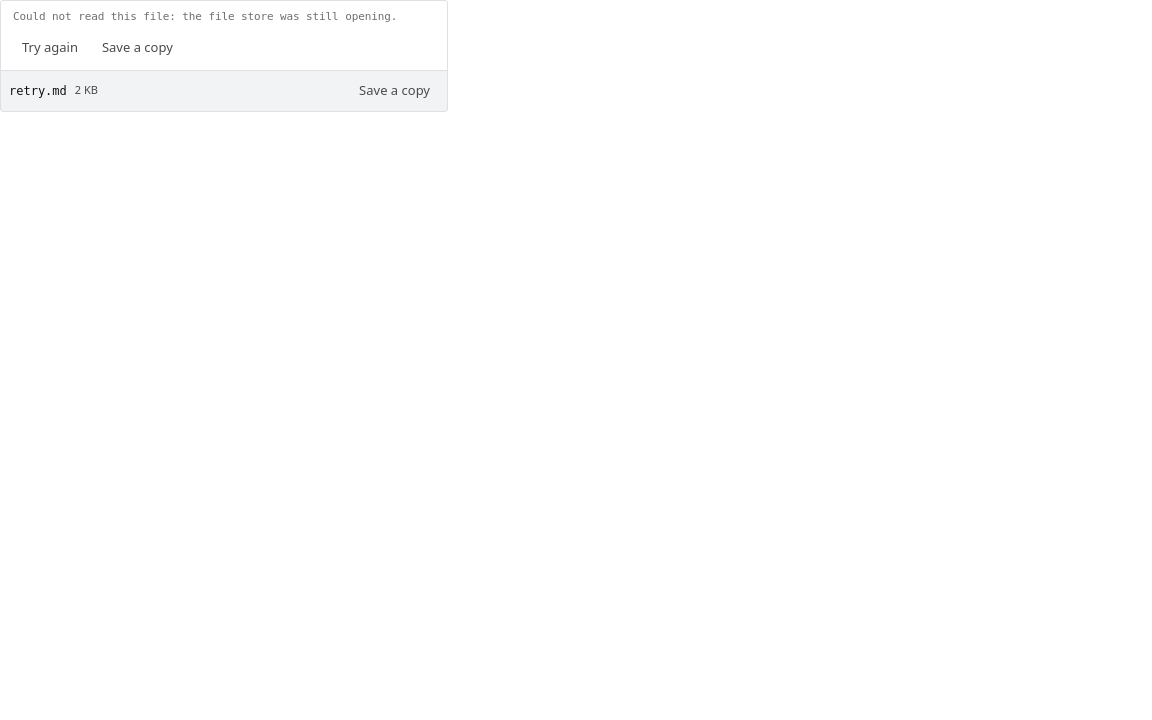
Test: FileCard › offers another go at a read that failed, and takes it
The image size is (1152, 720).
Click the button "Try again" at (50, 48), box [13, 34, 87, 62]
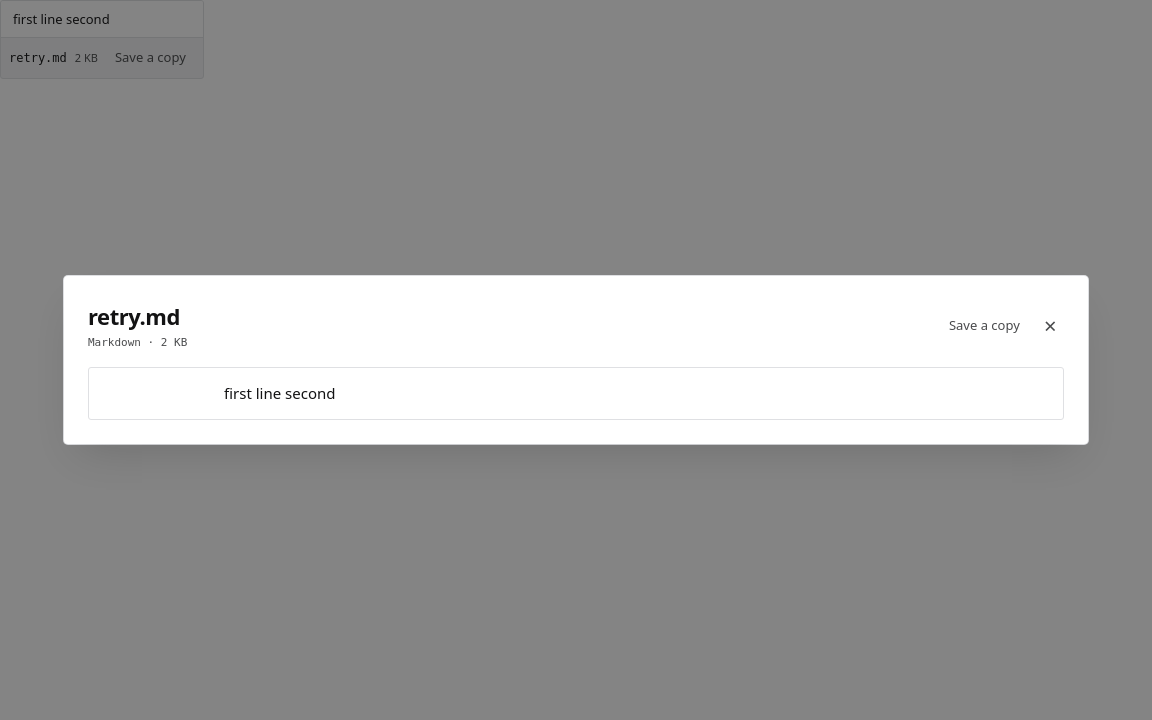
Check: the 1st element with class "file__doc" shows "first line", box [13, 10, 110, 28]
Check: the button "Try again" is gone
